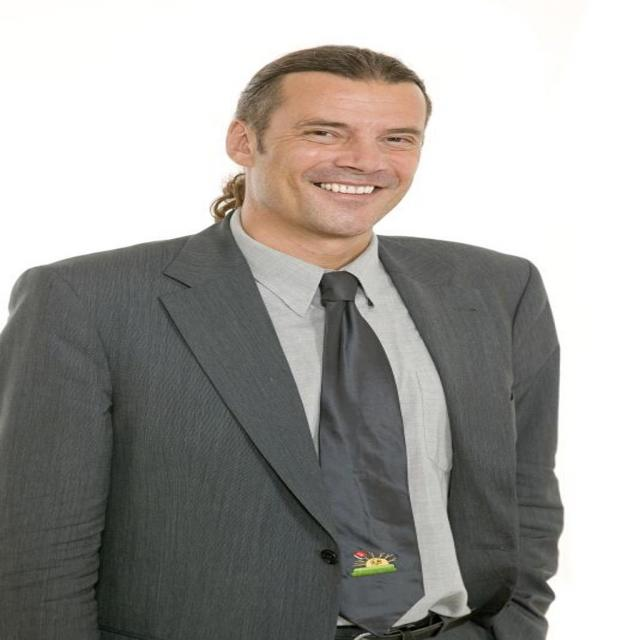nomask: (269, 76, 422, 230)
